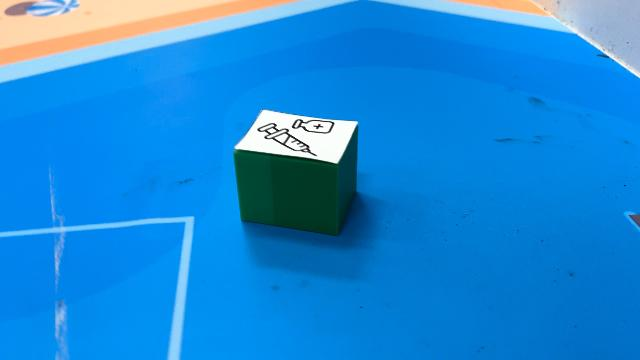syringe: (234, 110, 358, 236)
